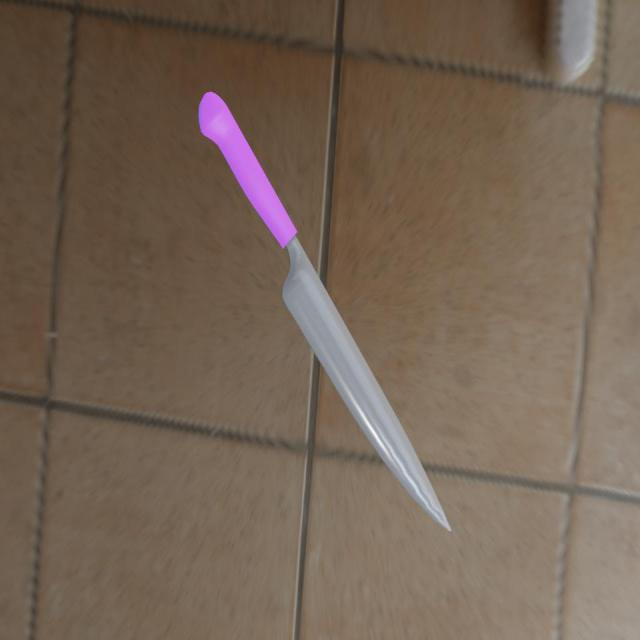knife: (198, 90, 297, 249)
